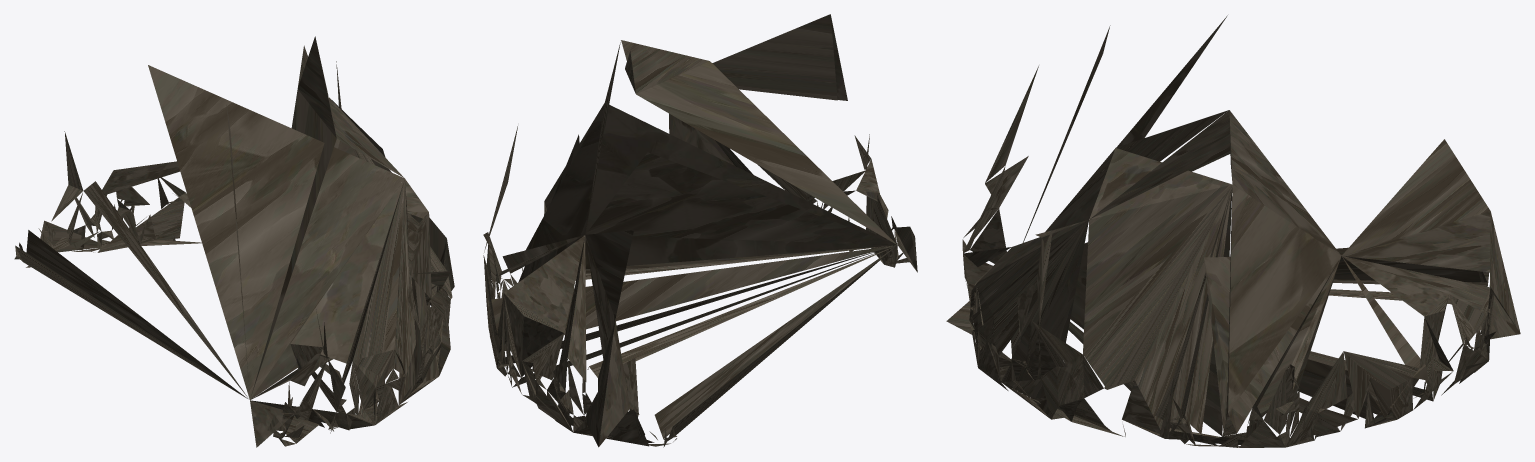
Rendered from nat_flowers_a_LOD1.glb.
The picture shows the model from 3 angles, left to right: view 1: azimuth 30°, elevation 25°; view 2: azimuth 150°, elevation 25°; view 3: azimuth 270°, elevation 25°; orthographic projection. The views are drawn at different scales.
Visible parts, largest first — view 1: geometry_0; view 2: geometry_0; view 3: geometry_0.
Part boxes in pixels (bbox=[...]): geometry_0: bbox=[14, 36, 454, 447]; geometry_0: bbox=[483, 14, 917, 447]; geometry_0: bbox=[946, 15, 1520, 447].
Size of the model in its own units: 0.5078 by 0.5 by 0.8566.
1 material, 1 textured.
